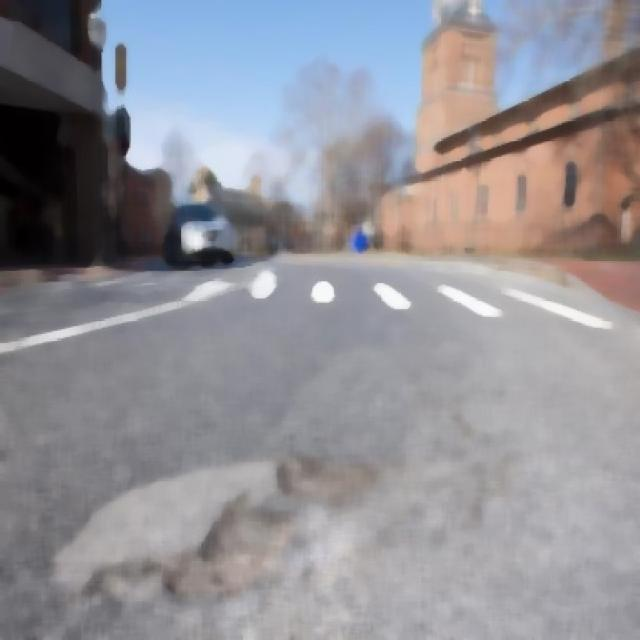Pothole: (154, 440, 318, 614)
